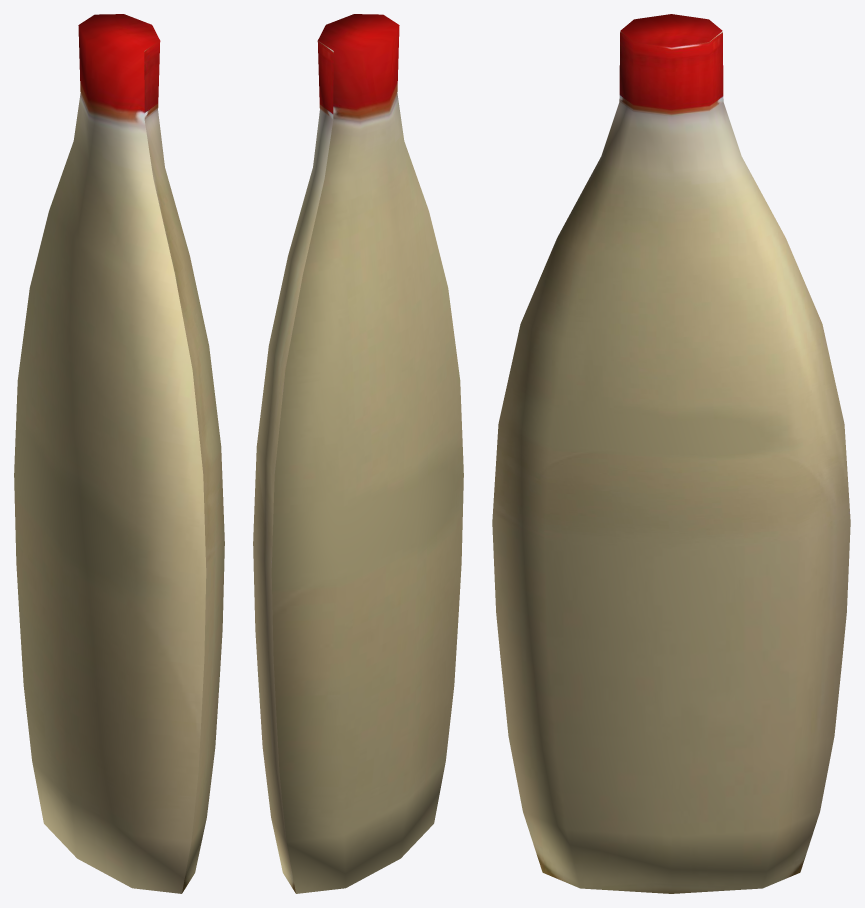
The model's file is Mayo.fbx.
The picture shows the model from 3 angles, left to right: view 1: azimuth 30°, elevation 25°; view 2: azimuth 150°, elevation 25°; view 3: azimuth 270°, elevation 25°; orthographic projection. The views are drawn at different scales.
Visible parts, largest first — view 1: Cube; view 2: Cube; view 3: Cube.
Part boxes in pixels (x1=…): Cube: x1=14, y1=14, x2=224, y2=893; Cube: x1=253, y1=14, x2=463, y2=893; Cube: x1=492, y1=14, x2=850, y2=893.
Size of the model in its own units: 0.0713 by 0.4754 by 0.1834.
